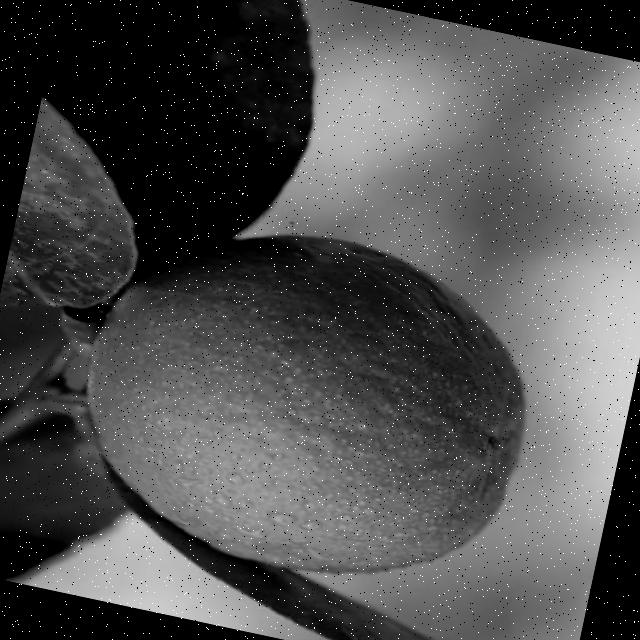Unripe: (55, 193, 554, 612)
